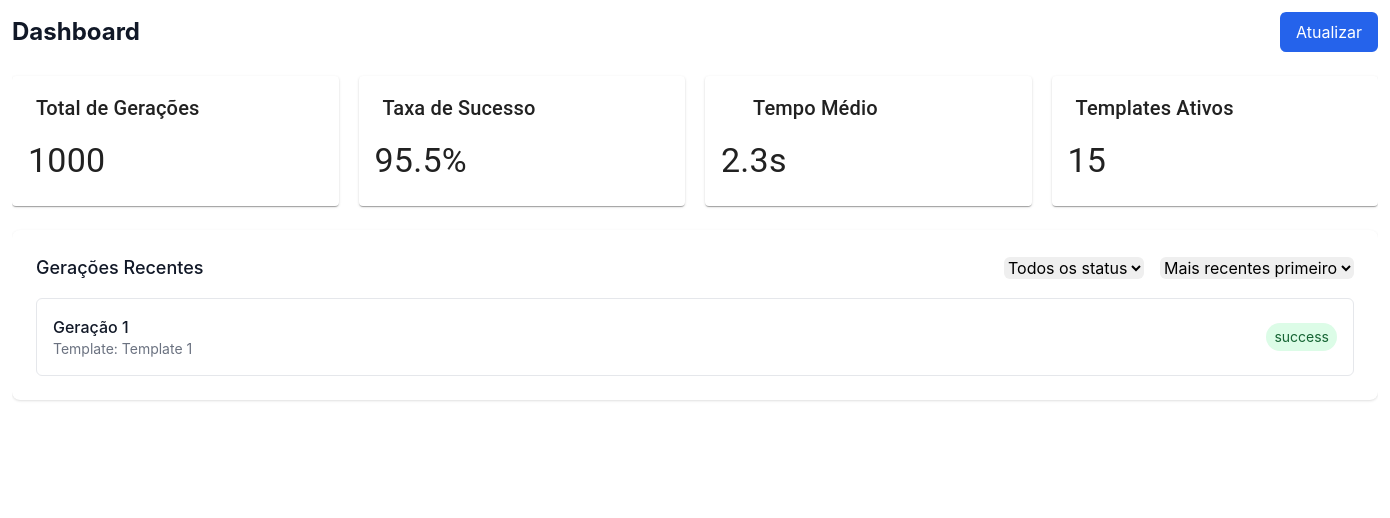
Test: Dashboard › deve exibir detalhes da geração ao clicar
This screenshot has width=1390, height=518.
Click the heading "Geração 1". click: point(91, 327)
box: [53,317,129,337]
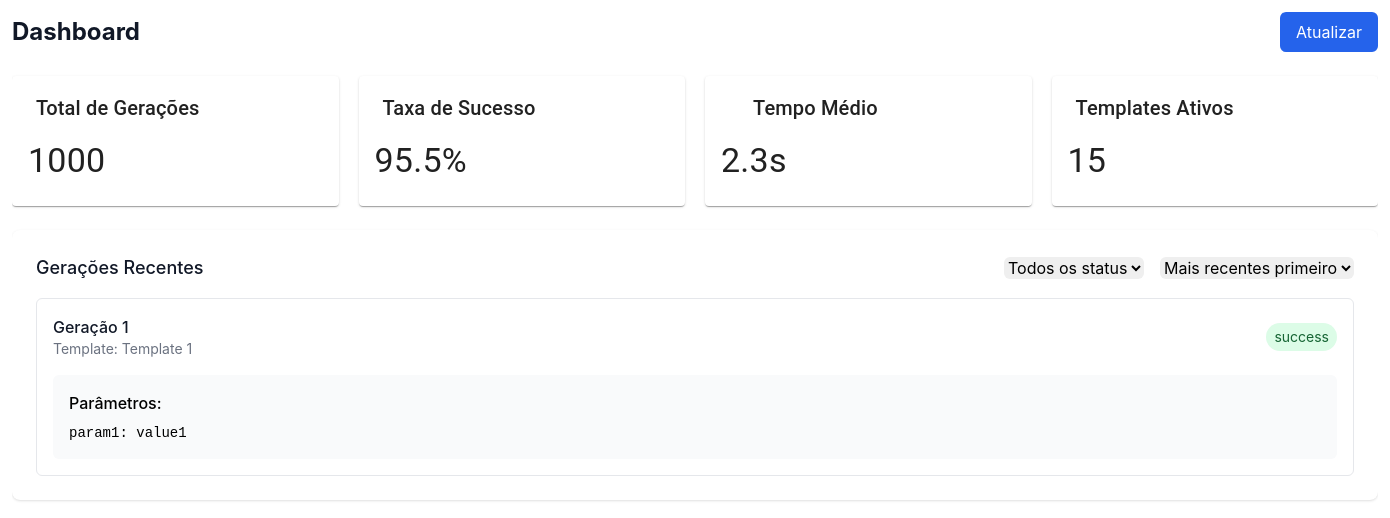
Check: the heading "Parâmetros:" is shown, box [69,393,162,413]
Check: the text "param1: value1" is shown, box [69,425,187,441]
